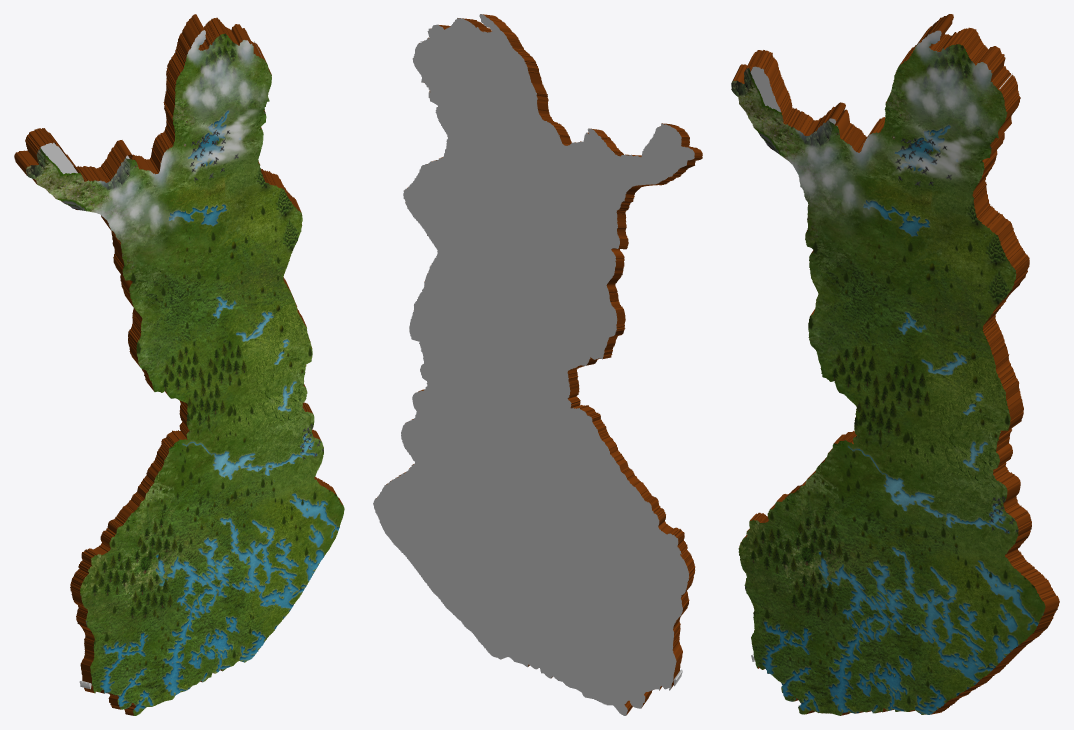
Rendered from finlandModel.dae.
3 renders of one model, left to right at view 1: azimuth 30°, elevation 25°; view 2: azimuth 150°, elevation 25°; view 3: azimuth 330°, elevation 25°, orthographic. The views are drawn at different scales.
Parts seen in each view (by area): view 1: Extrude.1; view 2: Extrude.1; view 3: Extrude.1.
Part boxes in pixels (x1,y1,x2,y2): Extrude.1: (14, 14, 344, 715); Extrude.1: (373, 14, 702, 715); Extrude.1: (731, 14, 1059, 715).
Bounding box in the file's own units: 1.82 × 3.64 × 0.4401.
Materials: 2 (1 with a texture image).
